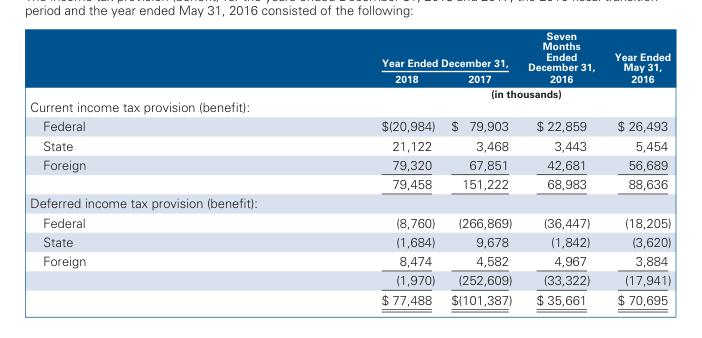table: (29, 29, 670, 306)
table column: (233, 29, 442, 306), (29, 29, 233, 306), (519, 29, 604, 306), (442, 29, 519, 306), (604, 29, 670, 306)
table column header: (29, 29, 670, 99)
table projected row header: (29, 193, 670, 212), (29, 99, 670, 116)
table row: (29, 29, 670, 70), (29, 173, 670, 193), (29, 250, 670, 270), (29, 116, 670, 135), (29, 135, 670, 154), (29, 154, 670, 173), (29, 193, 670, 212), (29, 212, 670, 231), (29, 231, 670, 250), (29, 270, 670, 289), (29, 99, 670, 116), (29, 289, 670, 306), (29, 70, 670, 85), (29, 85, 670, 99)
table spanning cell: (233, 29, 519, 70), (233, 85, 670, 99), (519, 29, 604, 85), (604, 29, 670, 85)
